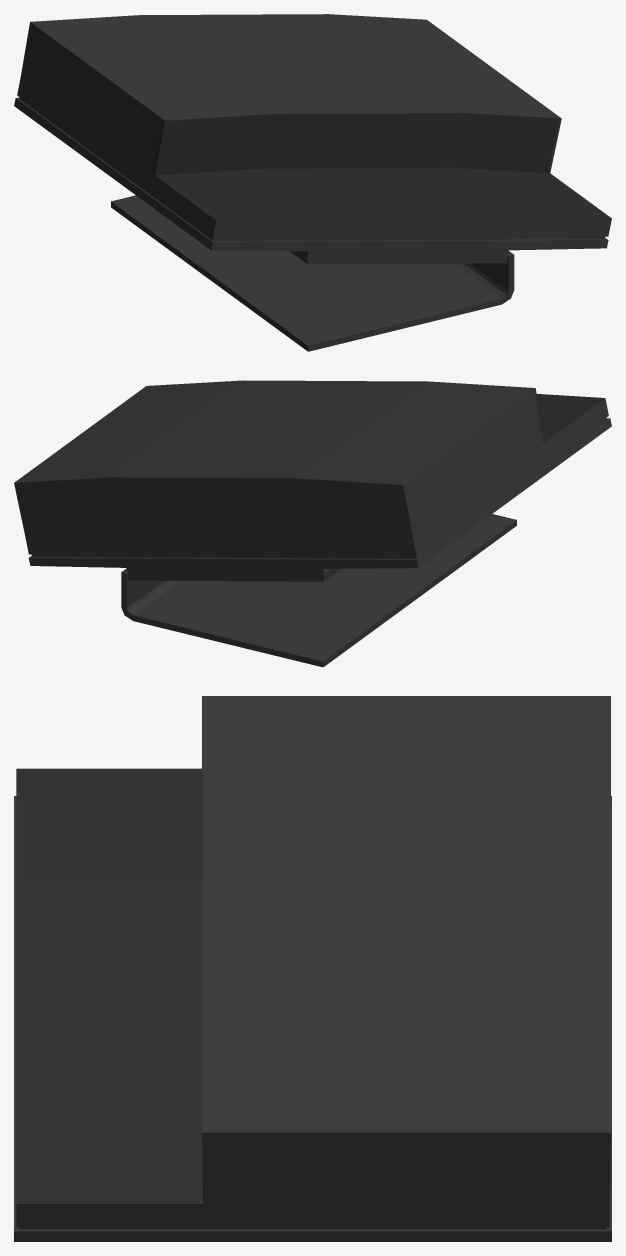
File: telephone_base.FBX
3 views of the same model, one above another, from view 1: azimuth 30°, elevation 25°; view 2: azimuth 150°, elevation 25°; view 3: azimuth 270°, elevation 25° (orthographic). The views are drawn at different scales.
Parts seen in each view (by area): view 1: Object003_Material__226; view 2: Object003_Material__226; view 3: Object003_Material__226.
Part boxes in pixels (bbox=[...]): Object003_Material__226: bbox=[14, 14, 611, 351]; Object003_Material__226: bbox=[14, 380, 611, 667]; Object003_Material__226: bbox=[14, 696, 611, 1241].
Bounding box in the file's own units: 69.94 × 33.3 × 57.97.
1 material, 1 textured.
